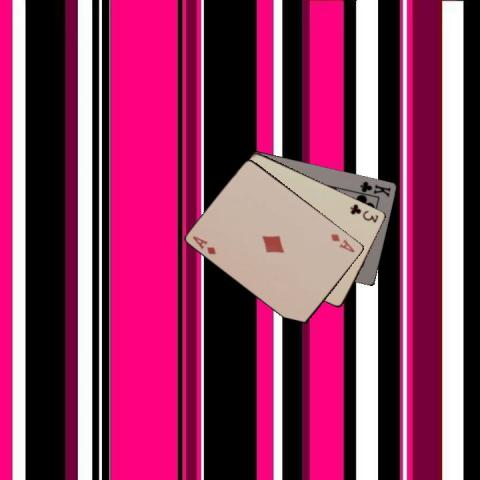3c: (347, 201, 380, 224)
Ad: (327, 231, 357, 254), (190, 233, 218, 256)
Kc: (357, 178, 392, 198)
